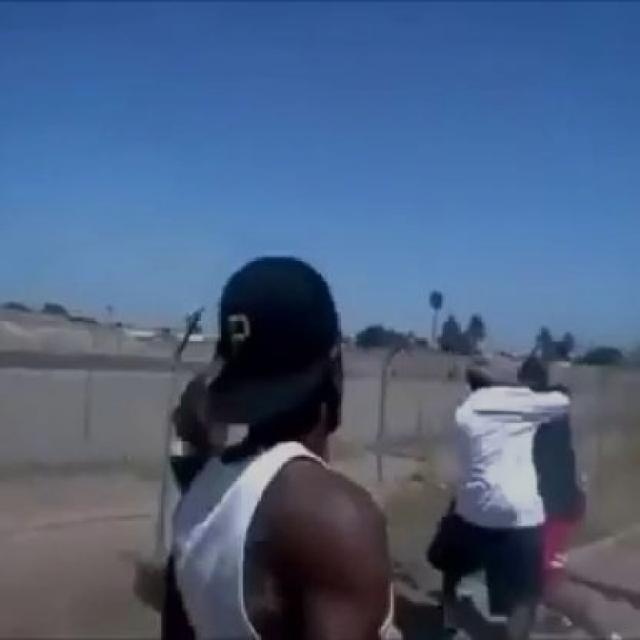fight: (422, 325, 633, 640)
non-fight: (102, 235, 404, 638)
